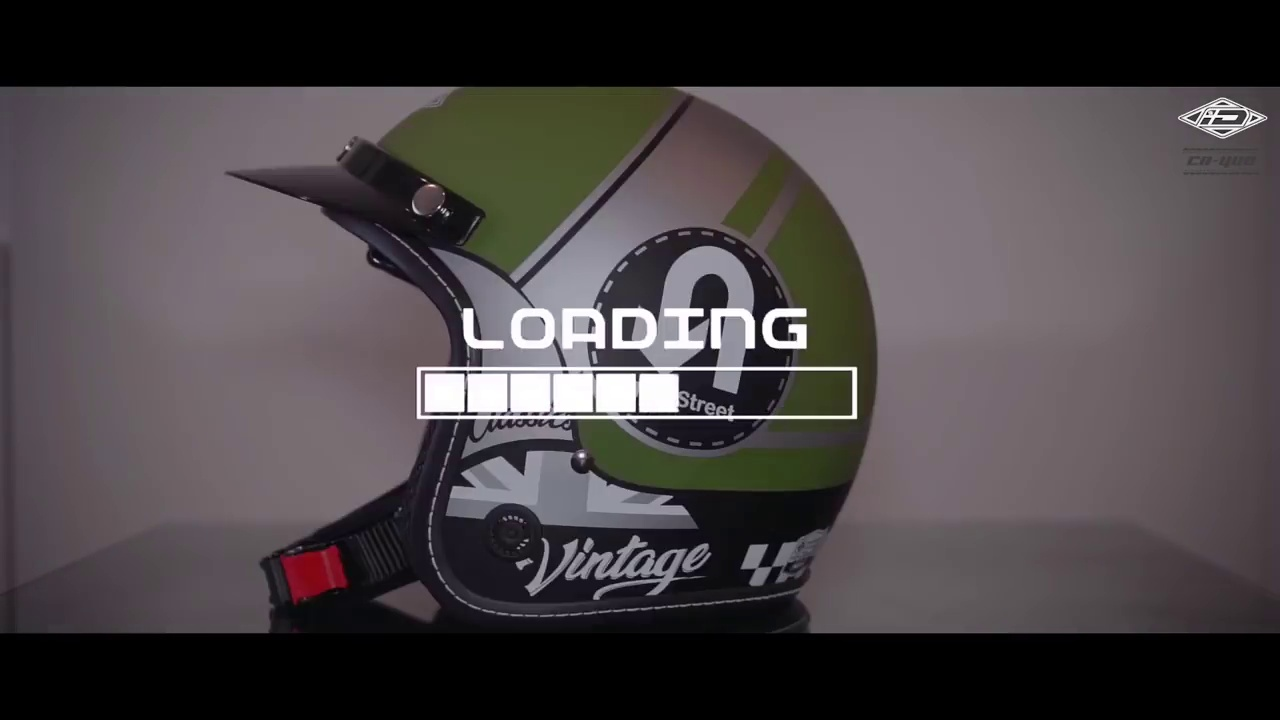helmet: (280, 87, 904, 630)
